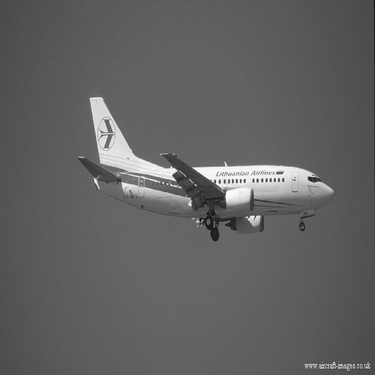airplane: (58, 82, 345, 255)
